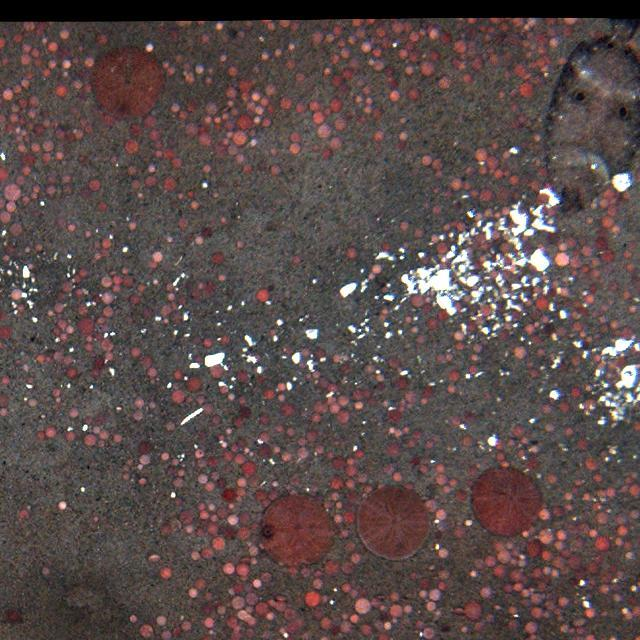flatfish: (546, 15, 638, 218)
